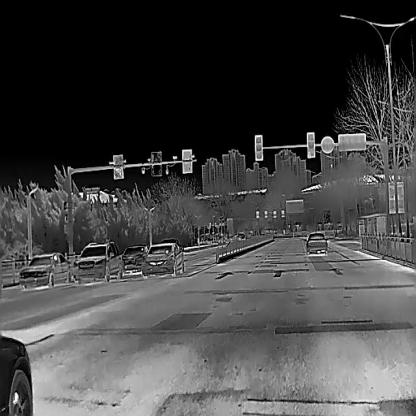car: (71, 240, 122, 281), (17, 250, 71, 288), (142, 242, 184, 277), (122, 245, 150, 273), (305, 232, 328, 254)
